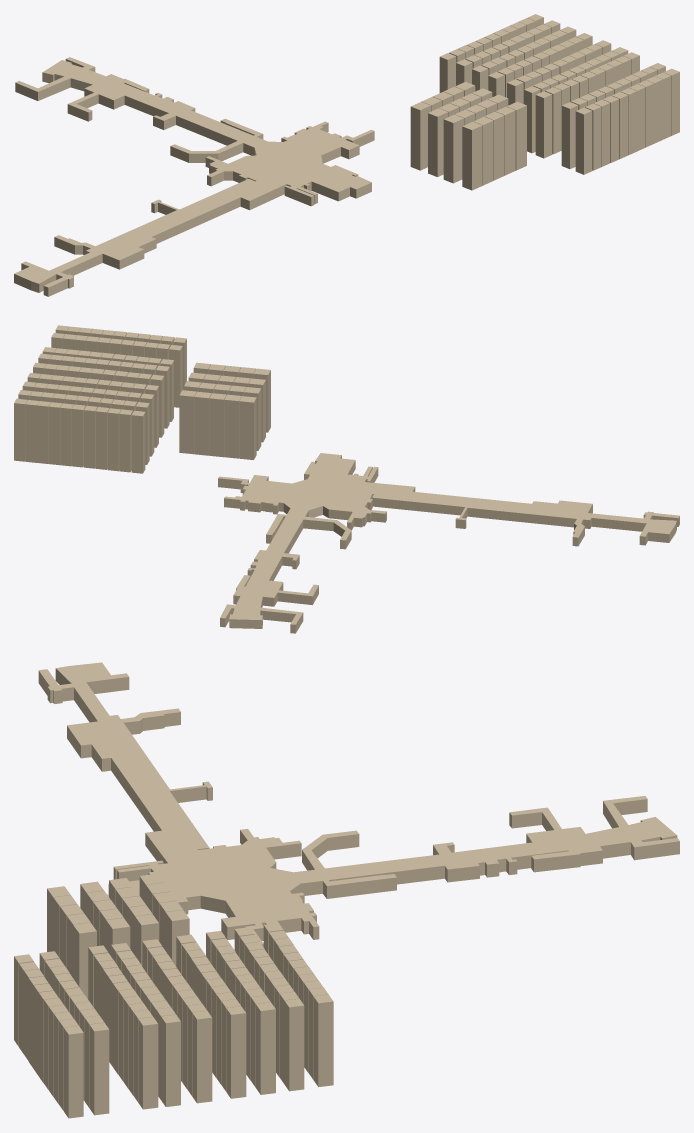
File: -21_26-estimated-coarse.glb
3 views of the same model, one above another, from view 1: azimuth 30°, elevation 25°; view 2: azimuth 150°, elevation 25°; view 3: azimuth 270°, elevation 25° (orthographic). The views are drawn at different scales.
Size of the model in its own units: 884 by 78 by 561.
